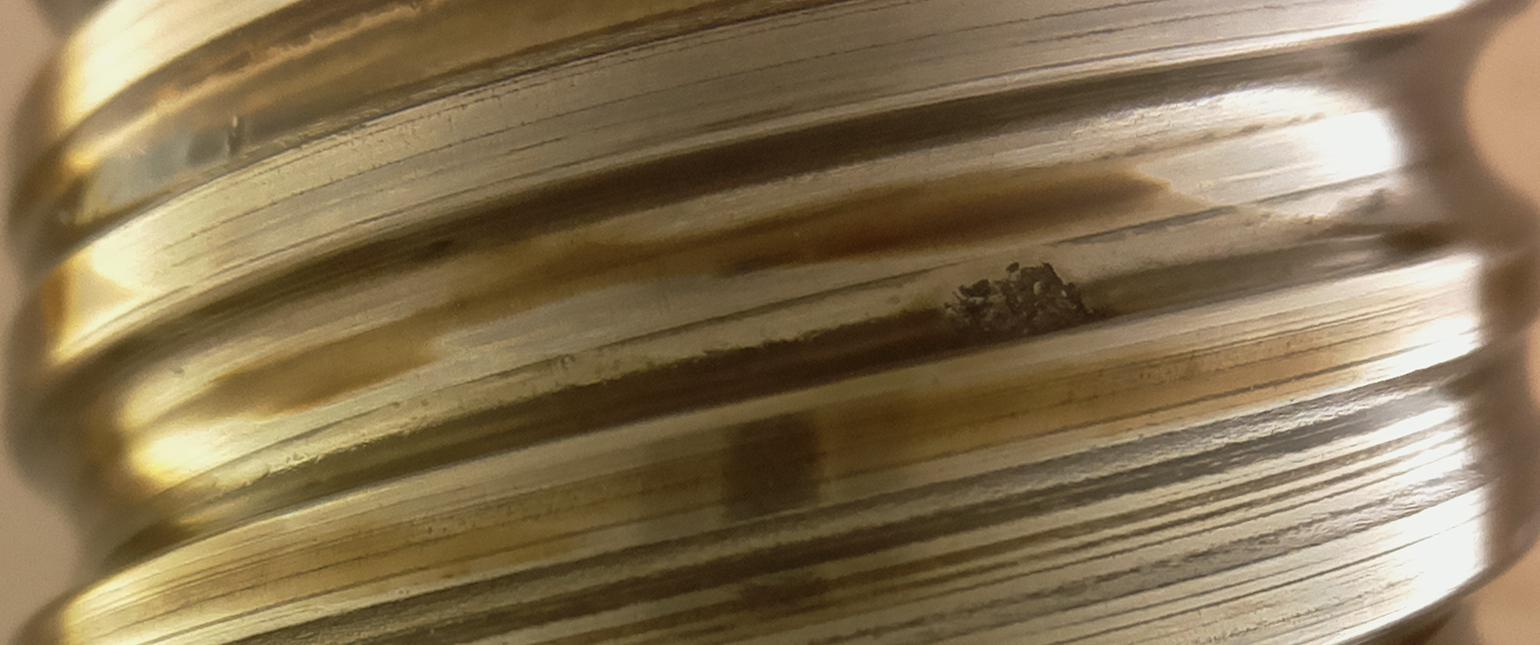pitting: (942, 262, 1110, 350)
